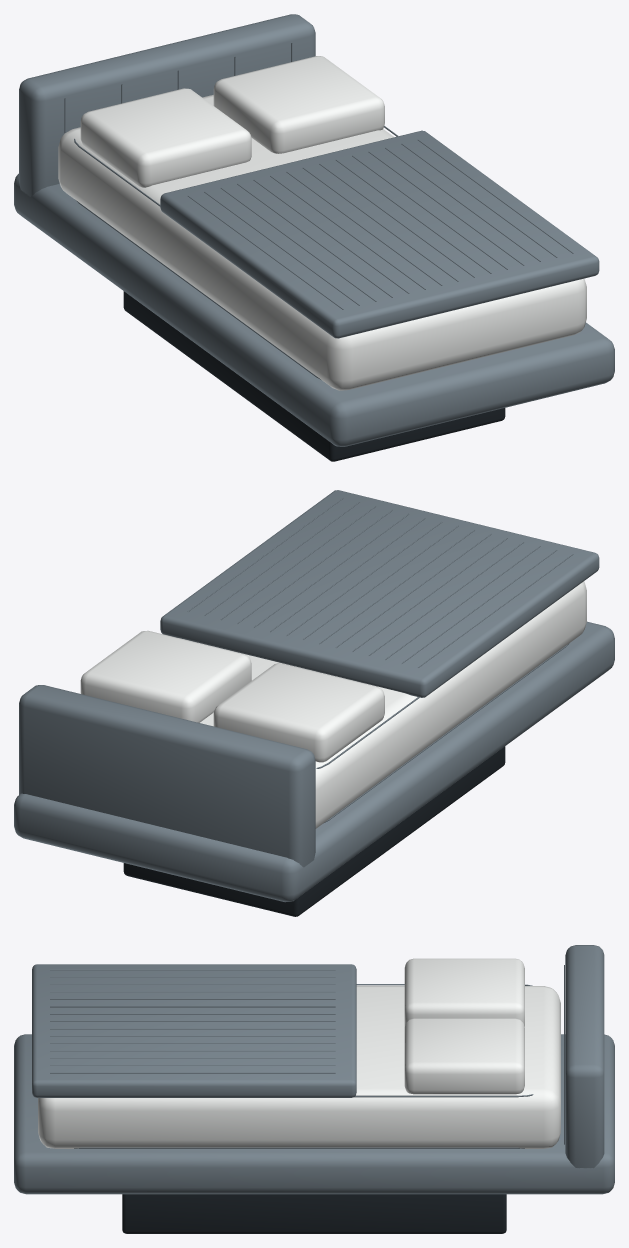
File: single-bed.glb
The picture shows the model from 3 angles, top to bottom: view 1: azimuth 30°, elevation 25°; view 2: azimuth 150°, elevation 25°; view 3: azimuth 270°, elevation 25°; orthographic projection. The views are drawn at different scales.
Visible parts, largest first — view 1: single-bed; view 2: single-bed; view 3: single-bed.
Boxes of the visible parts, box(x1,y1,x2,y2) form: single-bed: box(14, 14, 614, 461); single-bed: box(14, 490, 614, 916); single-bed: box(14, 945, 614, 1233).
Bounding box in the file's own units: 1 × 0.7 × 2.
